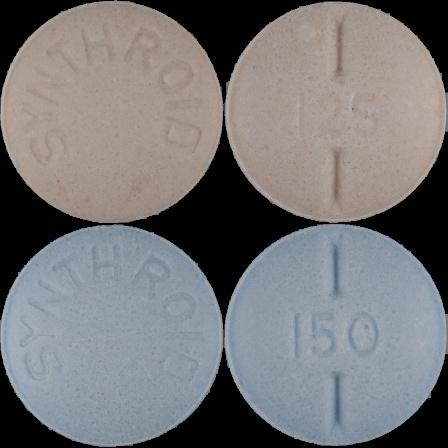67544-888: (0, 0, 224, 224)
